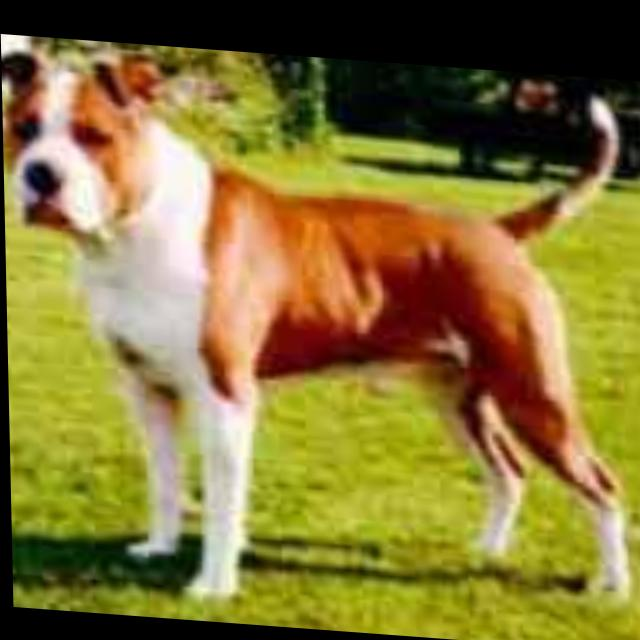staffford: (2, 37, 631, 623)
